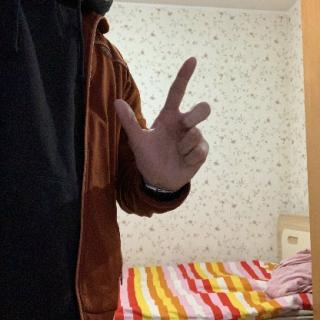LAAM: (111, 57, 214, 198)
